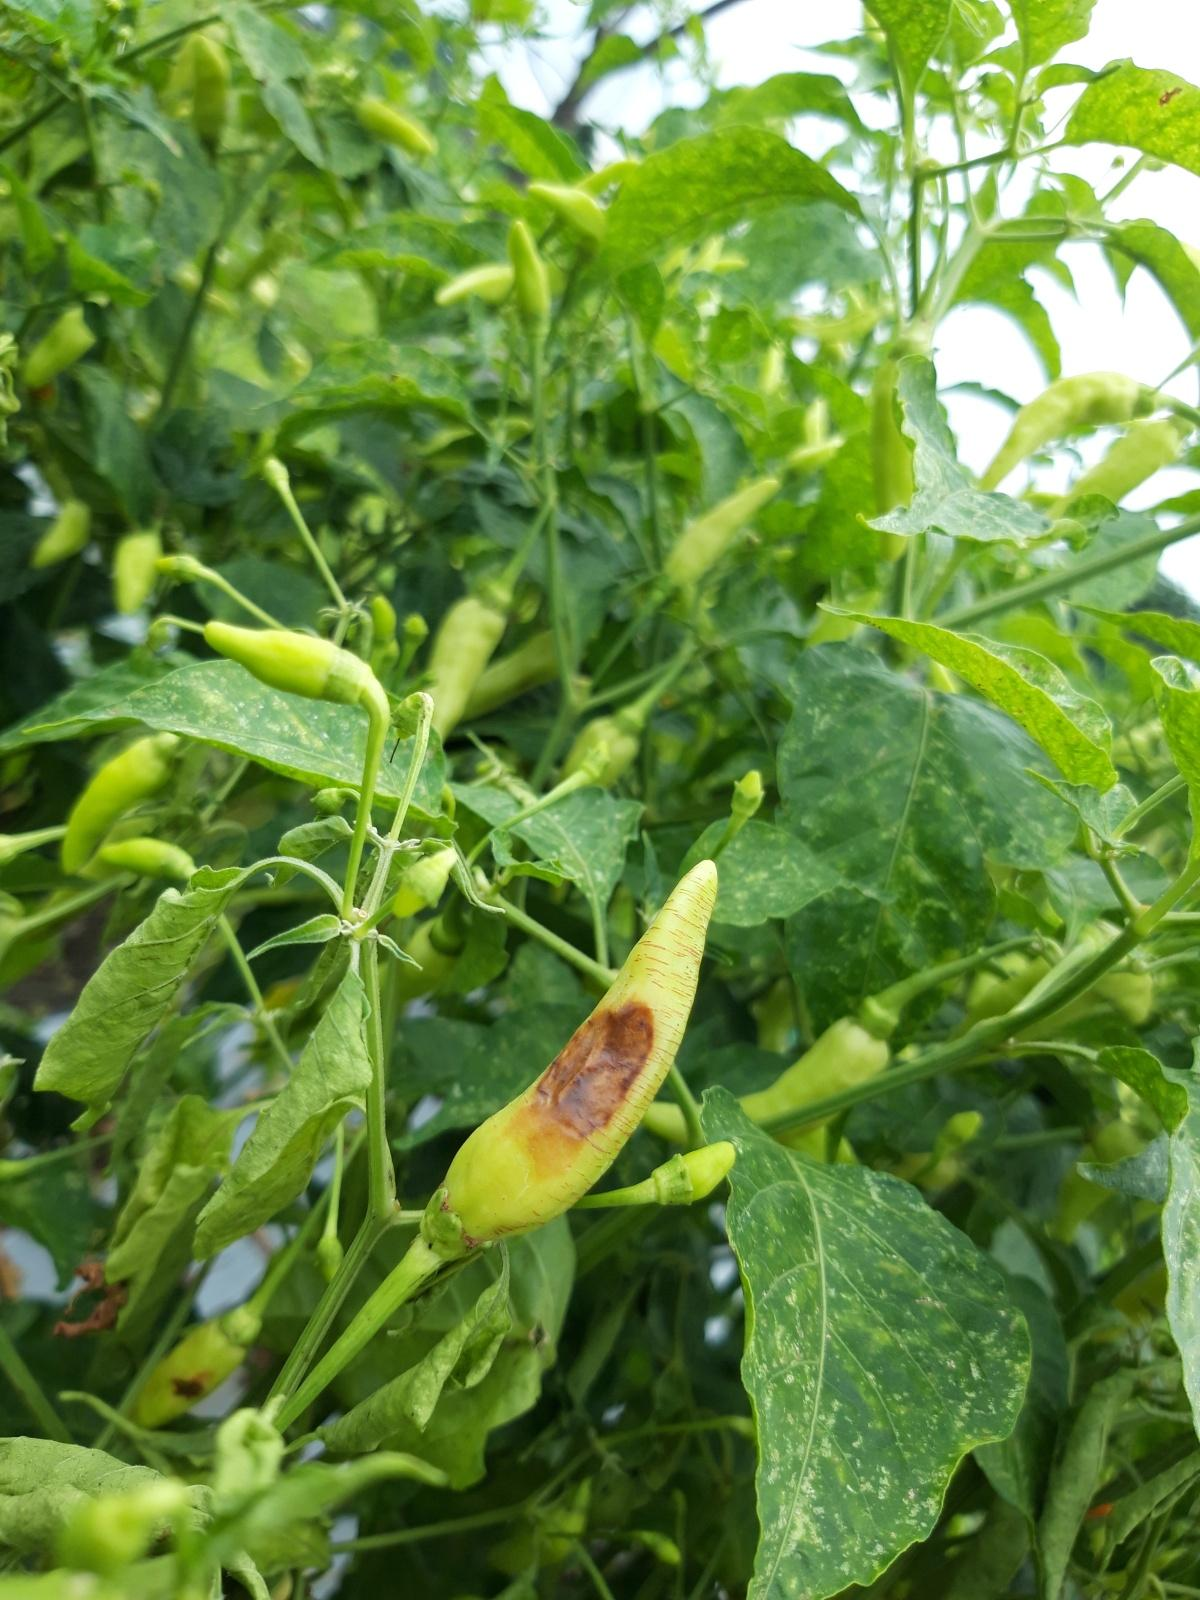cabai_normal: (645, 995, 899, 1148), (982, 372, 1155, 494), (62, 733, 179, 874), (1050, 413, 1194, 518), (657, 479, 779, 596), (203, 620, 367, 704), (426, 585, 511, 741), (652, 1139, 736, 1204), (348, 96, 434, 157), (512, 219, 551, 336), (97, 837, 194, 877)
lalat_buah: (420, 855, 718, 1259), (129, 1304, 262, 1431)
